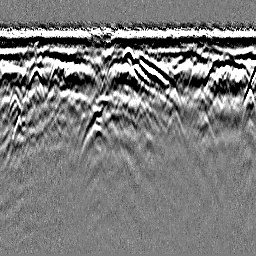cavity: (121, 46, 134, 64)
